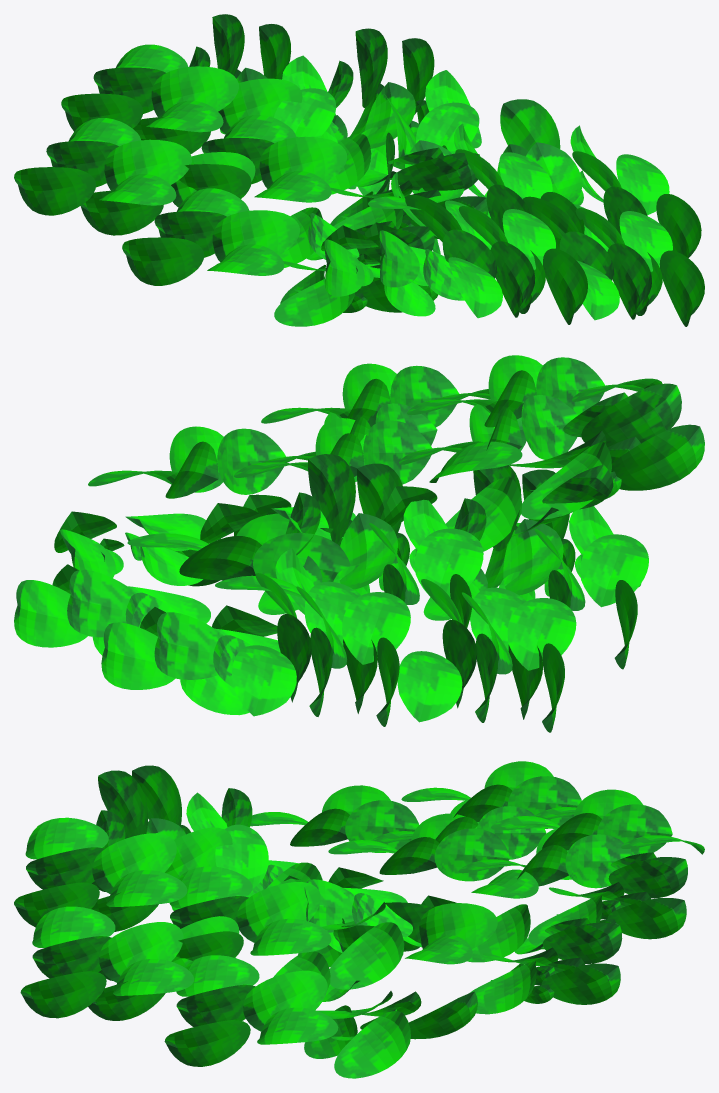
File: kubis-potong.glb
3 renders of one model, top to bottom at view 1: azimuth 30°, elevation 25°; view 2: azimuth 150°, elevation 25°; view 3: azimuth 270°, elevation 25°, orthographic. The views are drawn at different scales.
Visible parts, largest first — view 1: Plane.014, Plane.023, Plane.012, Plane.047, Plane.038, Plane.021, Plane.043, Plane.089, Plane.019, Plane.009, Plane.037, Plane.101 (+67 smaller); view 2: Plane.133, Plane.134, Plane.078, Plane.013, Plane.051, Plane.025, Plane.022, Plane.048, Plane.062, Plane.077, Plane.063, Plane.039 (+78 smaller); view 3: Plane.088, Plane.107, Plane.090, Plane.117, Plane.099, Plane.108, Plane.101, Plane.092, Plane.041, Plane.064, Plane.046, Plane.062 (+64 smaller).
Part boxes in pixels (x1=…): Plane.014: x1=122, y1=237, x2=204, y2=285; Plane.023: x1=14, y1=167, x2=96, y2=215; Plane.012: x1=212, y1=210, x2=299, y2=261; Plane.047: x1=151, y1=66, x2=238, y2=117; Plane.038: x1=259, y1=136, x2=346, y2=188; Plane.021: x1=104, y1=139, x2=191, y2=190; Plane.043: x1=218, y1=78, x2=302, y2=134; Plane.089: x1=500, y1=99, x2=560, y2=150; Plane.019: x1=80, y1=190, x2=163, y2=235; Plane.009: x1=274, y1=279, x2=355, y2=326; Plane.037: x1=397, y1=153, x2=480, y2=190; Plane.101: x1=659, y1=250, x2=704, y2=326; Plane.133: x1=611, y1=424, x2=704, y2=490; Plane.134: x1=581, y1=383, x2=681, y2=447; Plane.078: x1=154, y1=612, x2=223, y2=679; Plane.013: x1=580, y1=534, x2=648, y2=607; Plane.051: x1=232, y1=645, x2=296, y2=716; Plane.025: x1=397, y1=651, x2=462, y2=722; Plane.022: x1=507, y1=598, x2=576, y2=670; Plane.048: x1=342, y1=592, x2=410, y2=664; Plane.062: x1=14, y1=580, x2=87, y2=647; Plane.077: x1=101, y1=622, x2=175, y2=689; Plane.063: x1=67, y1=569, x2=136, y2=637; Plane.039: x1=414, y1=528, x2=483, y2=596; Plane.088: x1=334, y1=1011, x2=410, y2=1078; Plane.107: x1=329, y1=922, x2=403, y2=989; Plane.090: x1=243, y1=970, x2=327, y2=1031; Plane.117: x1=92, y1=833, x2=176, y2=893; Plane.099: x1=99, y1=922, x2=183, y2=982; Plane.108: x1=236, y1=882, x2=320, y2=942; Plane.101: x1=20, y1=971, x2=106, y2=1018; Plane.092: x1=164, y1=1020, x2=250, y2=1066; Plane.041: x1=434, y1=828, x2=509, y2=881; Plane.064: x1=419, y1=903, x2=497, y2=948; Plane.046: x1=565, y1=834, x2=632, y2=888; Plane.062: x1=541, y1=963, x2=620, y2=1004.
Bounding box in the file's own units: 6.84 × 2.07 × 8.25.
1 material, 1 textured.
